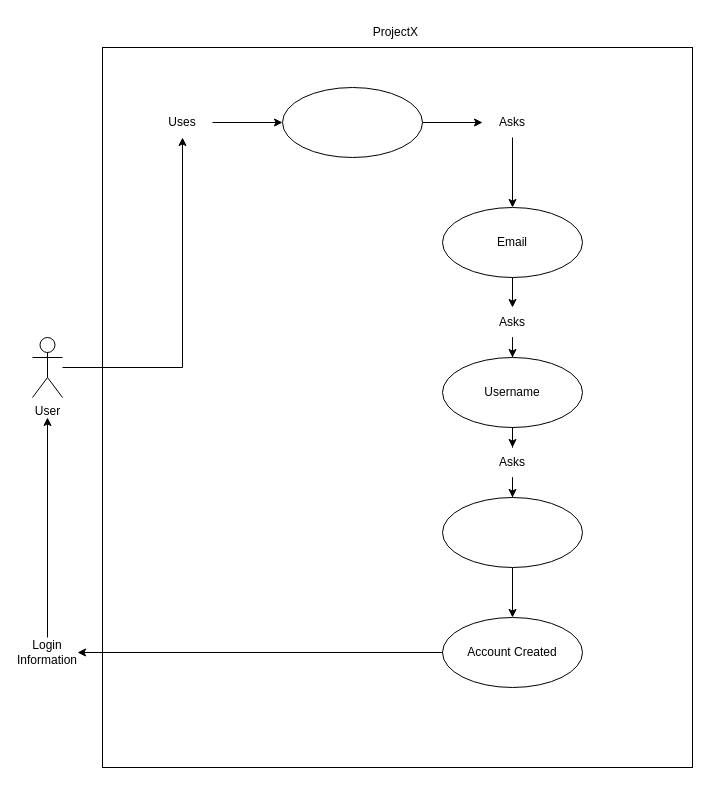
Image size: 710x785. Some labels were removed from this diagram. The centre of each missing label's shape, as x and y in pixels:
"Password" belongs at point 512,532.
"Register" belongs at point 352,122.
